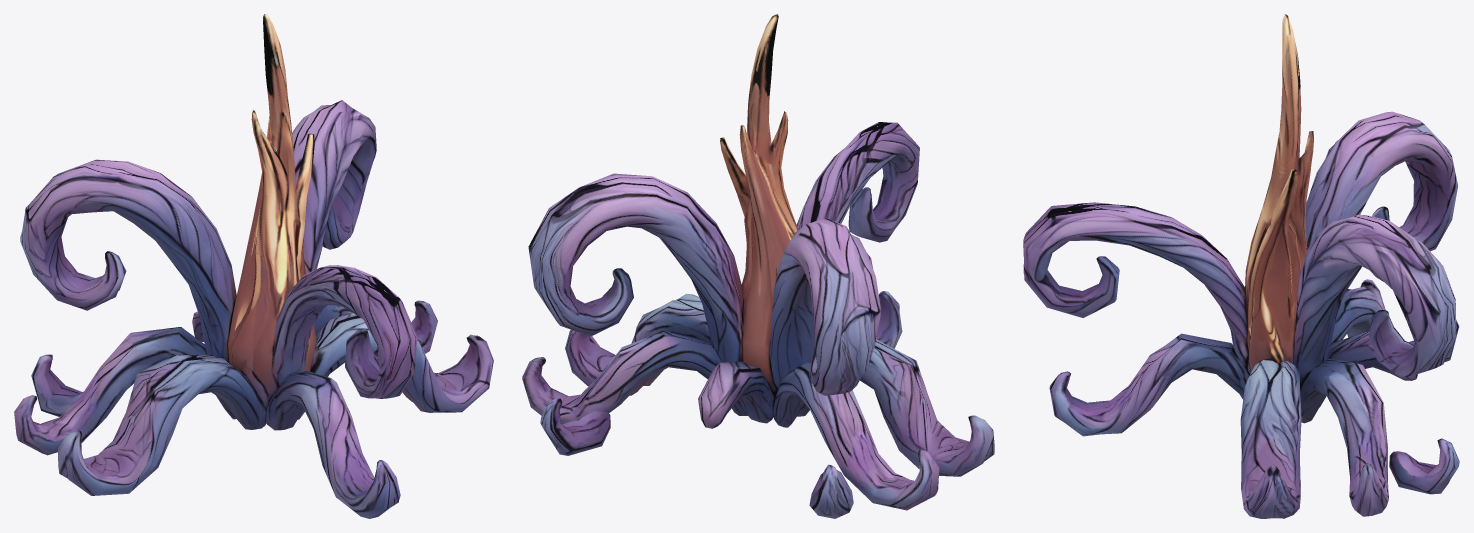
Rendered from base_basic_shaded.glb.
3 renders of one model, left to right at view 1: azimuth 30°, elevation 25°; view 2: azimuth 150°, elevation 25°; view 3: azimuth 270°, elevation 25°, orthographic. The views are drawn at different scales.
Parts seen in each view (by area): view 1: root.1, root.2, root.7, root.3, root.4, root.0, root.8, root.6, root.5; view 2: root.0, root.1, root.2, root.4, root.5, root.3, root.7, root.6, root.9, root.8; view 3: root.0, root.3, root.2, root.1, root.5, root.6, root.8, root.4, root.9.
Boxes of the visible parts, <box> form: root.1: <box>20,159,236,361</box>; root.2: <box>228,14,316,410</box>; root.7: <box>58,354,266,495</box>; root.3: <box>272,265,417,398</box>; root.4: <box>14,327,236,455</box>; root.0: <box>292,100,376,273</box>; root.8: <box>265,370,400,518</box>; root.6: <box>298,312,493,419</box>; root.5: <box>314,300,437,362</box>; root.0: <box>528,173,743,362</box>; root.1: <box>769,218,881,395</box>; root.2: <box>720,14,798,400</box>; root.4: <box>773,362,939,518</box>; root.5: <box>522,330,747,455</box>; root.3: <box>797,122,919,242</box>; root.7: <box>797,339,994,476</box>; root.6: <box>565,293,712,395</box>; root.9: <box>698,361,774,428</box>; root.8: <box>876,291,902,348</box>; root.0: <box>1293,214,1456,387</box>; root.3: <box>1023,202,1248,366</box>; root.2: <box>1245,14,1313,374</box>; root.1: <box>1305,111,1457,251</box>; root.5: <box>1300,359,1459,516</box>; root.6: <box>1240,360,1301,518</box>; root.8: <box>1049,333,1249,436</box>; root.4: <box>1331,279,1459,362</box>; root.9: <box>1319,331,1417,407</box>.
Size of the model in its own units: 0.3125 by 0.3 by 0.2828.
Materials: 10 (10 with a texture image).
